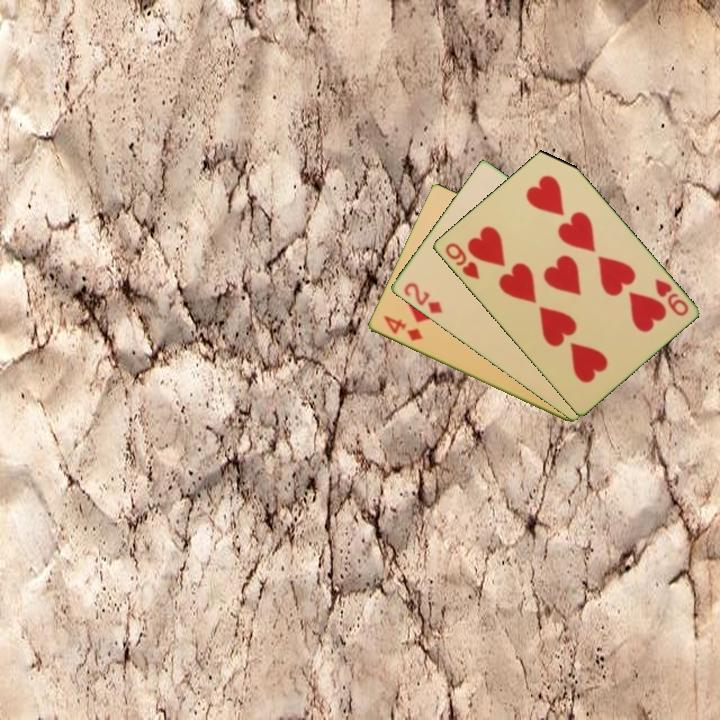2d: (400, 279, 445, 317)
4d: (379, 312, 425, 344)
9h: (441, 239, 482, 282), (651, 275, 691, 319)
